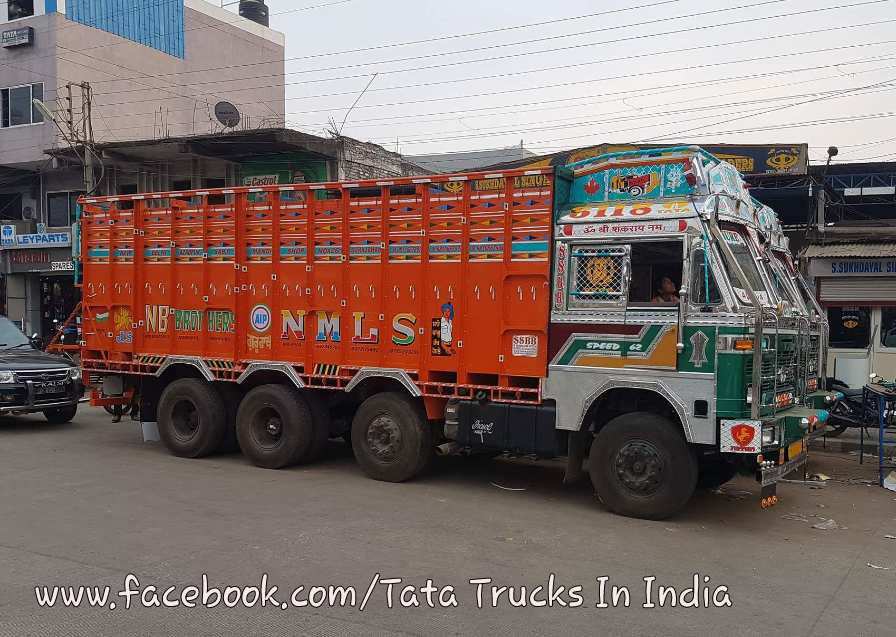bike: (825, 380, 896, 440)
car: (1, 314, 81, 420)
truck: (63, 132, 827, 526)
